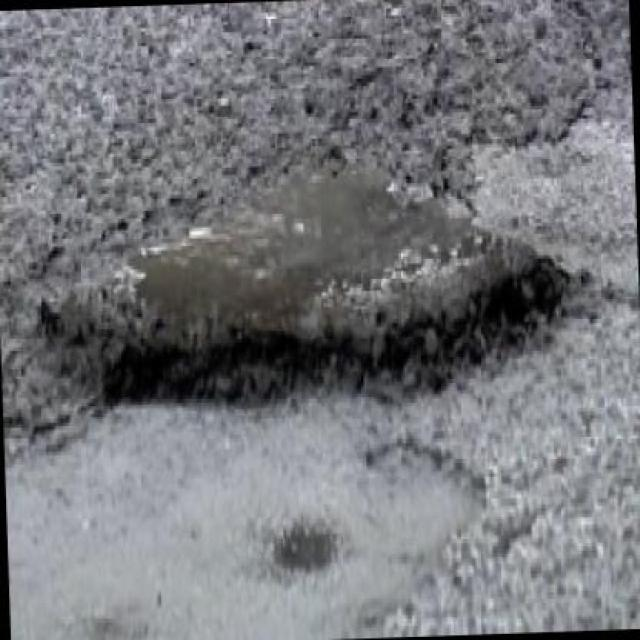pothole: (25, 143, 601, 434), (263, 519, 345, 595)
